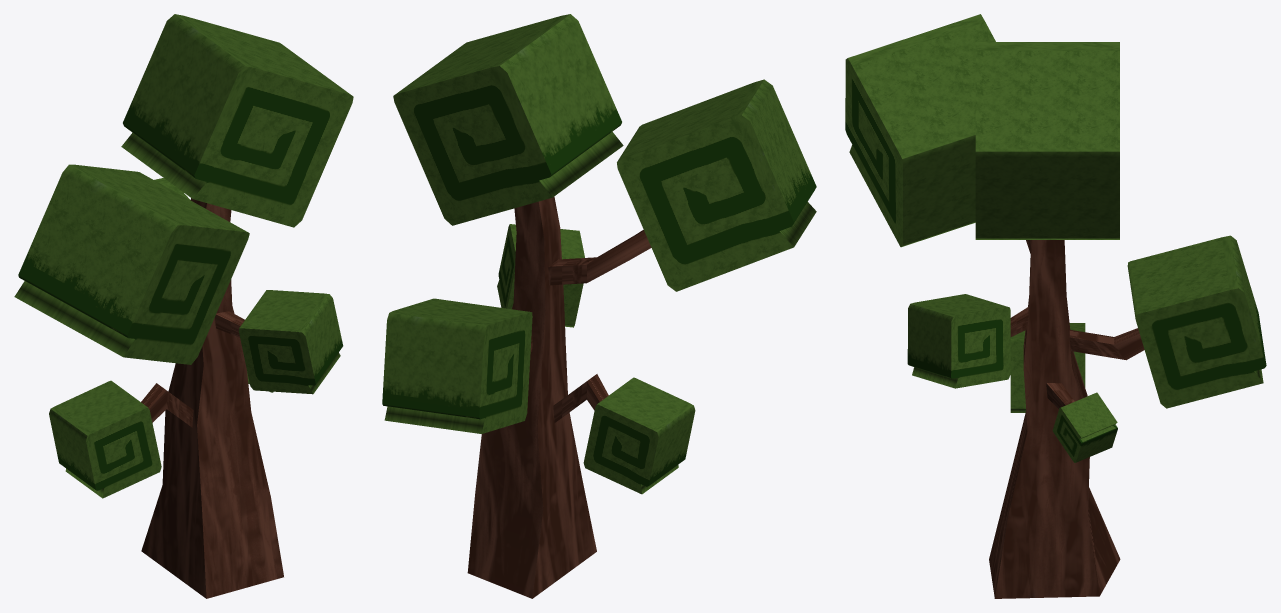
The picture shows the model from 3 angles, left to right: view 1: azimuth 30°, elevation 25°; view 2: azimuth 150°, elevation 25°; view 3: azimuth 270°, elevation 25°; orthographic projection.
Visible parts, largest first — view 1: pCube31, pCube33, KI, pCube28, pCube37, pCube27, pCube36; view 2: pCube31, pCube33, KI, pCube35, pCube28, pCube37, pCube32, pCube27; view 3: pCube31, pCube33, KI, pCube35, pCube37, pCube30, pCube34, pCube28.
Boxes of the visible parts, left/top/right/bottom form: pCube31: left=121, top=14, right=353, bottom=227; pCube33: left=14, top=164, right=249, bottom=364; KI: left=141, top=198, right=283, bottom=598; pCube28: left=49, top=380, right=161, bottom=498; pCube37: left=238, top=290, right=343, bottom=394; pCube27: left=141, top=383, right=193, bottom=427; pCube36: left=215, top=311, right=244, bottom=337; pCube31: left=393, top=14, right=623, bottom=225; pCube33: left=617, top=79, right=816, bottom=291; KI: left=467, top=196, right=596, bottom=598; pCube35: left=382, top=298, right=532, bottom=433; pCube28: left=583, top=377, right=695, bottom=494; pCube37: left=497, top=224, right=584, bottom=327; pCube32: left=548, top=230, right=651, bottom=285; pCube27: left=553, top=374, right=608, bottom=422; pCube31: left=975, top=42, right=1119, bottom=239; pCube33: left=845, top=14, right=995, bottom=247; KI: left=989, top=240, right=1120, bottom=598; pCube35: left=1127, top=235, right=1266, bottom=408; pCube37: left=907, top=294, right=1010, bottom=388; pCube30: left=1052, top=392, right=1117, bottom=462; pCube34: left=1069, top=328, right=1144, bottom=360; pCube28: left=1010, top=323, right=1085, bottom=412.
Size of the model in its own units: 79.41 by 120 by 85.49.
